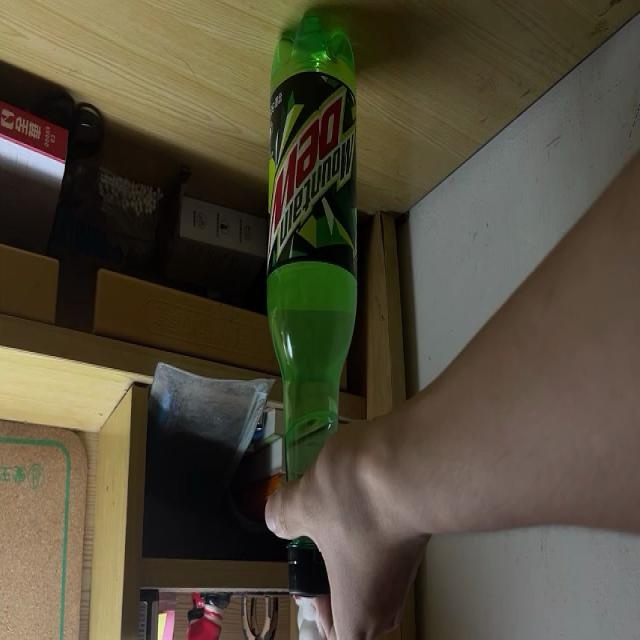Mountain-Dew: (264, 11, 358, 600)
